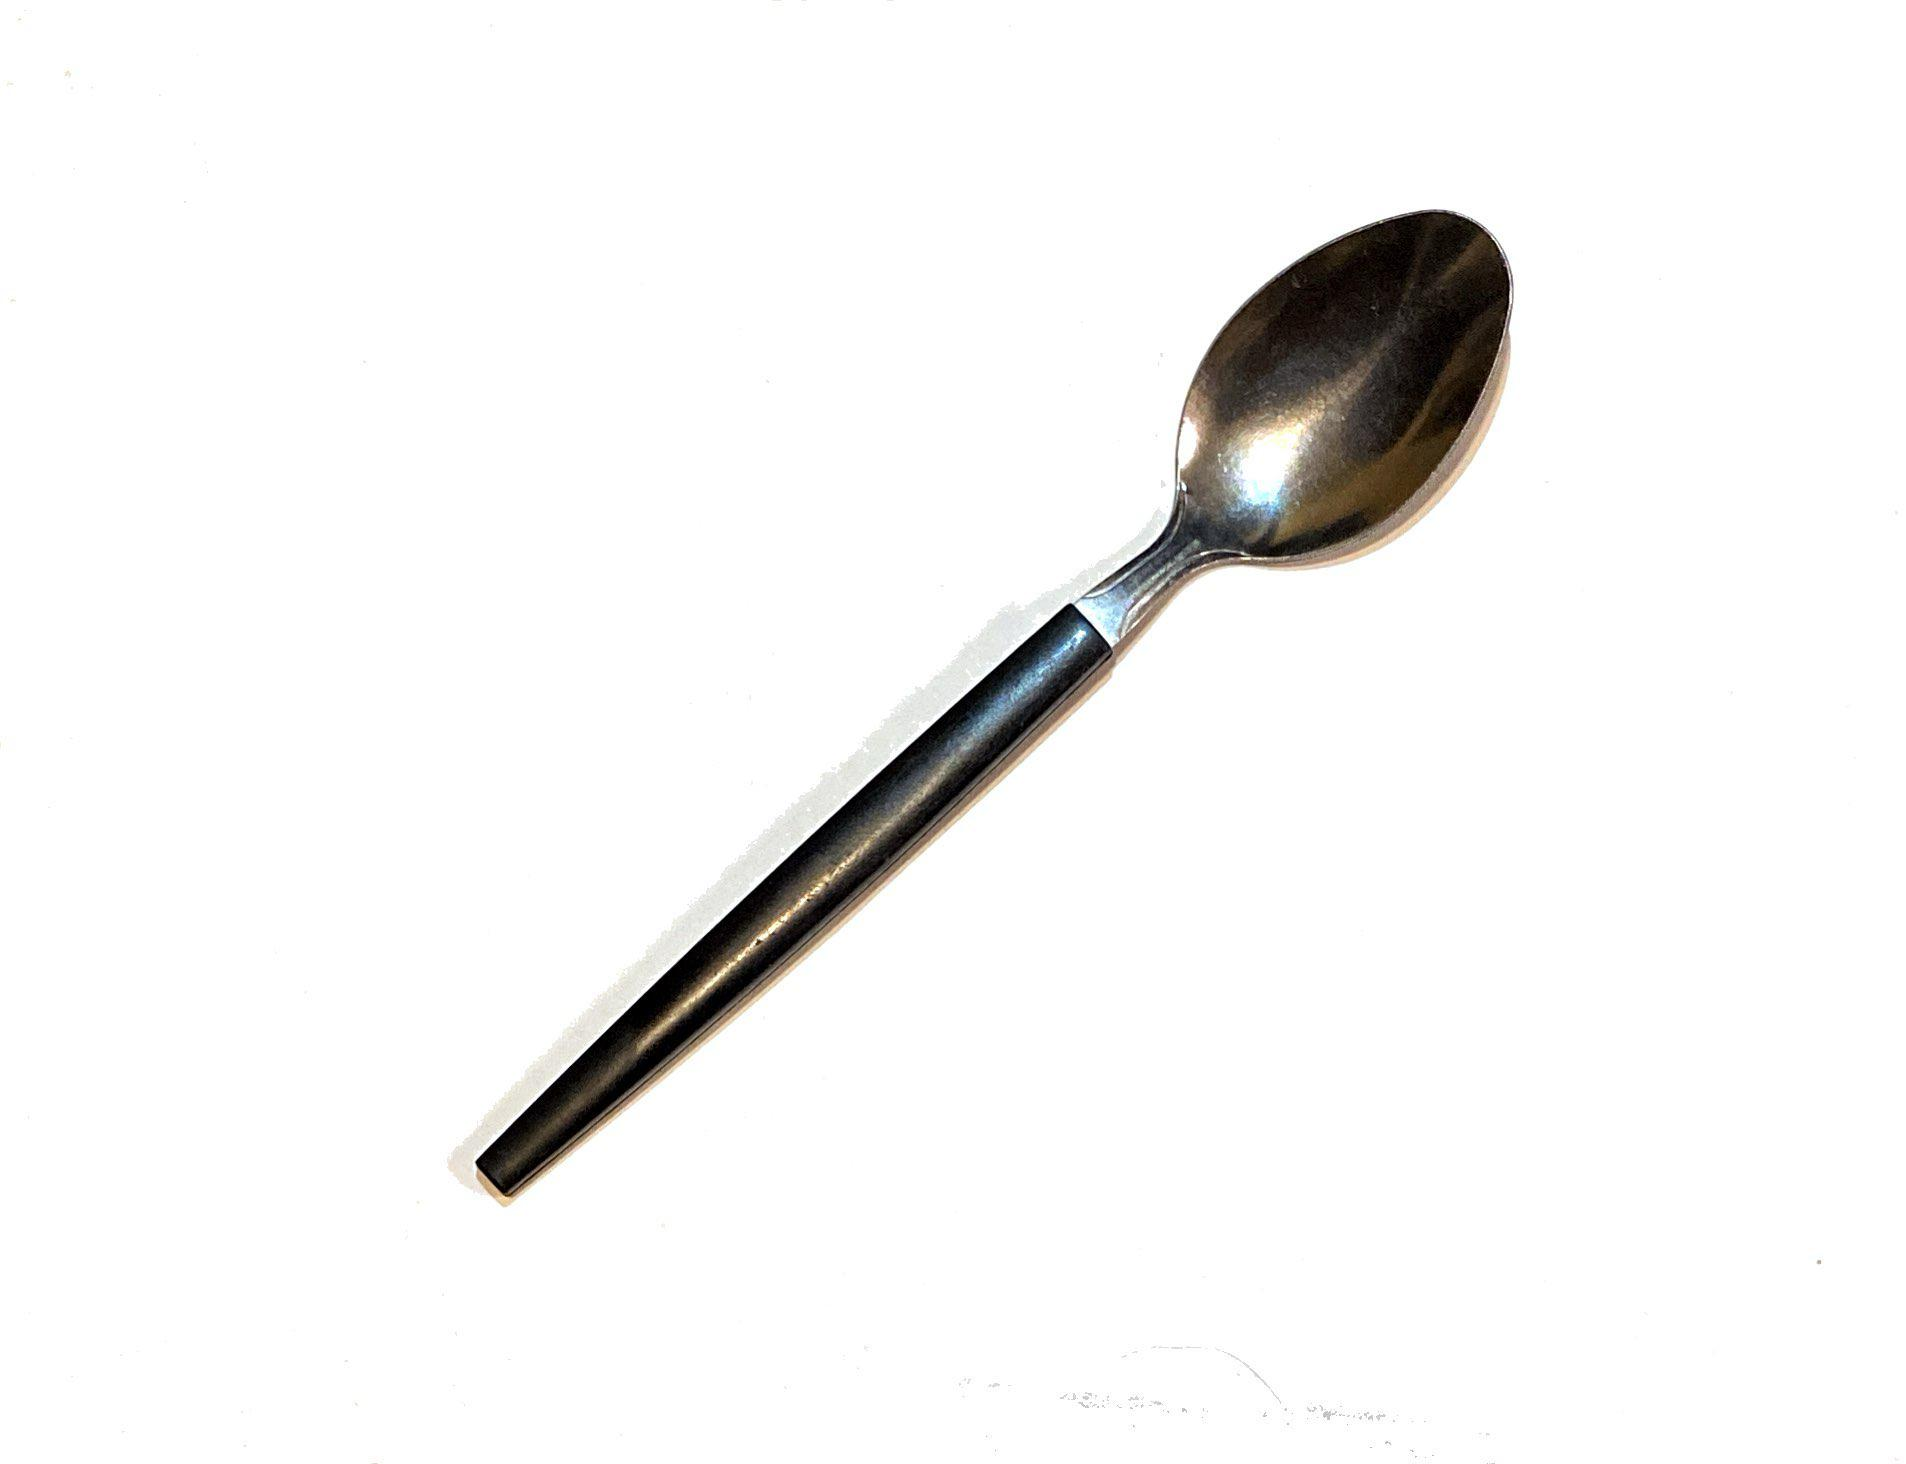Spoon: (347, 177, 1625, 1359)
